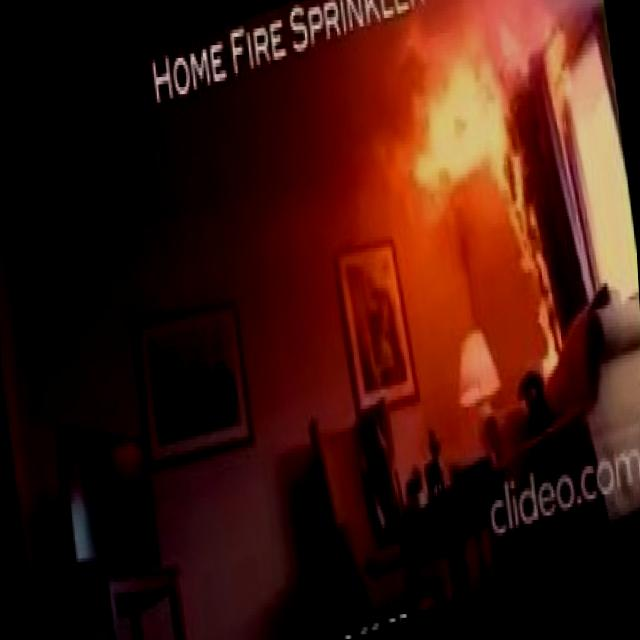fire: (379, 0, 536, 247)
